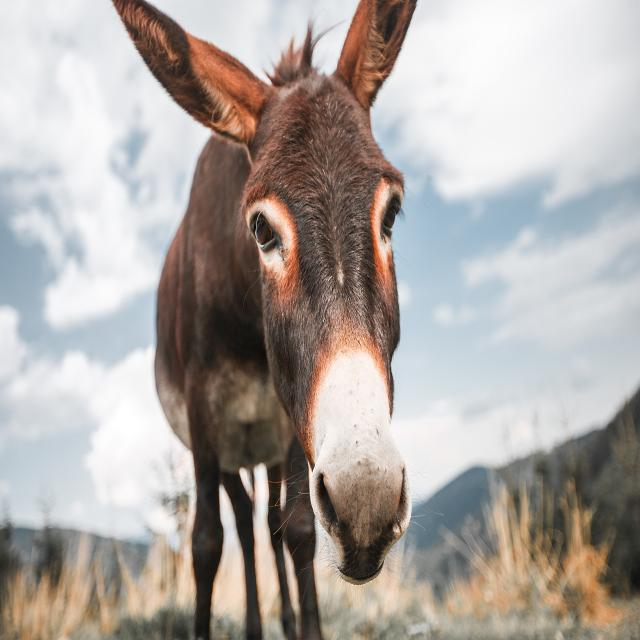Donkey: (111, 0, 419, 640)
